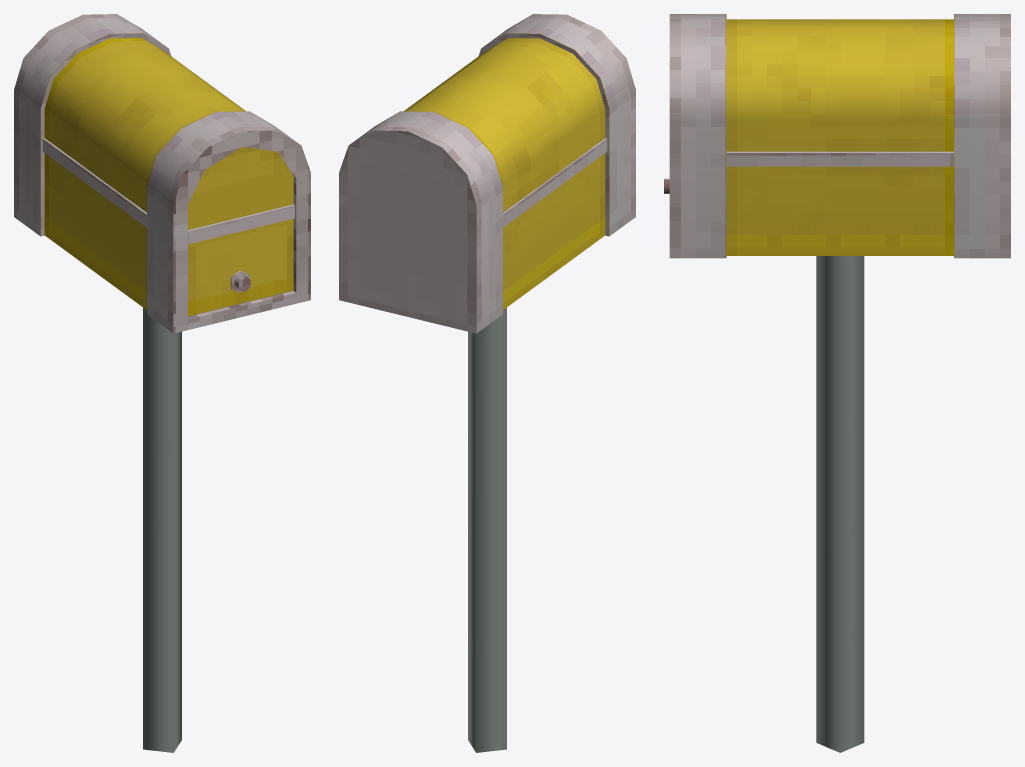
File: objects_un_mailbox01.gltf
The picture shows the model from 3 angles, left to right: view 1: azimuth 30°, elevation 25°; view 2: azimuth 150°, elevation 25°; view 3: azimuth 270°, elevation 25°; orthographic projection. The views are drawn at different scales.
Parts seen in each view (by area): view 1: um_objects_un_mailbox01_model_lod0Shape:objects_un_mailbox01, um_objects_un_mailbox01_model_lod1Shape:objects_un_mailbox01; view 2: um_objects_un_mailbox01_model_lod0Shape:objects_un_mailbox01, um_objects_un_mailbox01_model_lod1Shape:objects_un_mailbox01; view 3: um_objects_un_mailbox01_model_lod0Shape:objects_un_mailbox01, um_objects_un_mailbox01_model_lod1Shape:objects_un_mailbox01.
Part boxes in pixels (box(x1,y1,x2,y2)): um_objects_un_mailbox01_model_lod0Shape:objects_un_mailbox01: box(14, 14, 310, 752); um_objects_un_mailbox01_model_lod1Shape:objects_un_mailbox01: box(14, 34, 308, 234); um_objects_un_mailbox01_model_lod0Shape:objects_un_mailbox01: box(339, 14, 635, 752); um_objects_un_mailbox01_model_lod1Shape:objects_un_mailbox01: box(339, 34, 608, 332); um_objects_un_mailbox01_model_lod0Shape:objects_un_mailbox01: box(664, 14, 1010, 752); um_objects_un_mailbox01_model_lod1Shape:objects_un_mailbox01: box(959, 121, 1010, 245).
Bounding box in the file's own units: 0.2988 × 1.4 × 0.61.
Materials: 1 (1 with a texture image).
